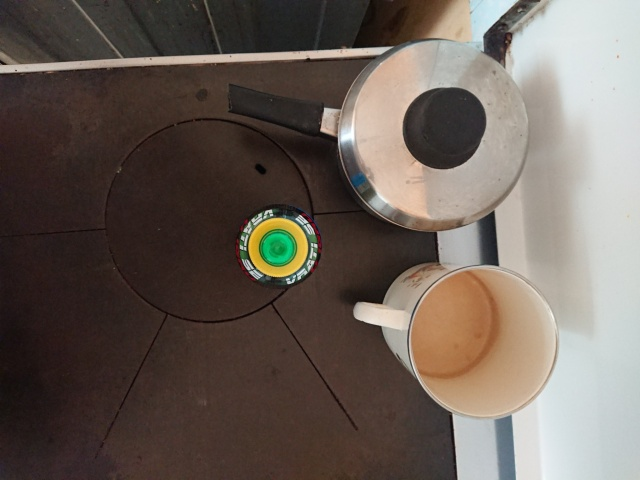Vindi Iso Sport Forest Strawberries 500mL: (232, 201, 323, 290)
